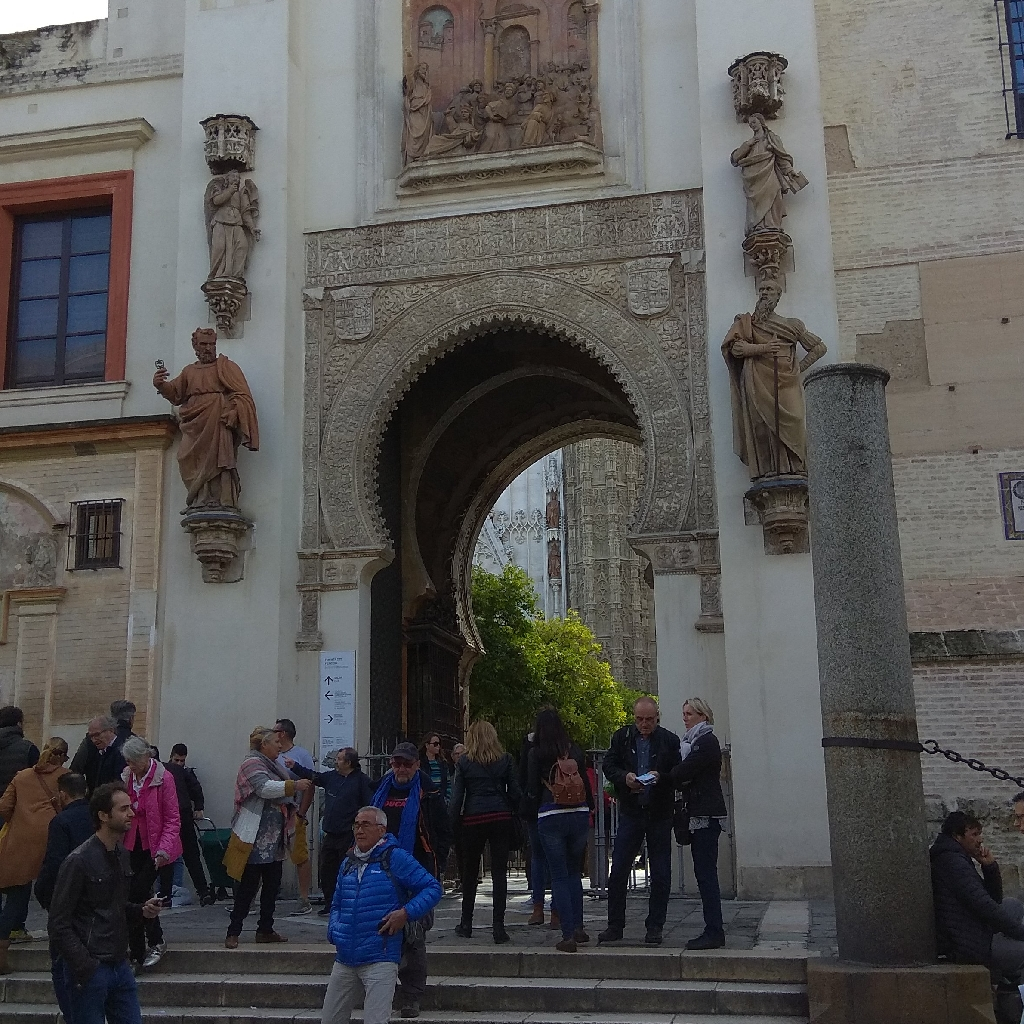arco-herradura: (348, 297, 670, 593)
vano-adintelado: (1, 118, 159, 395)
